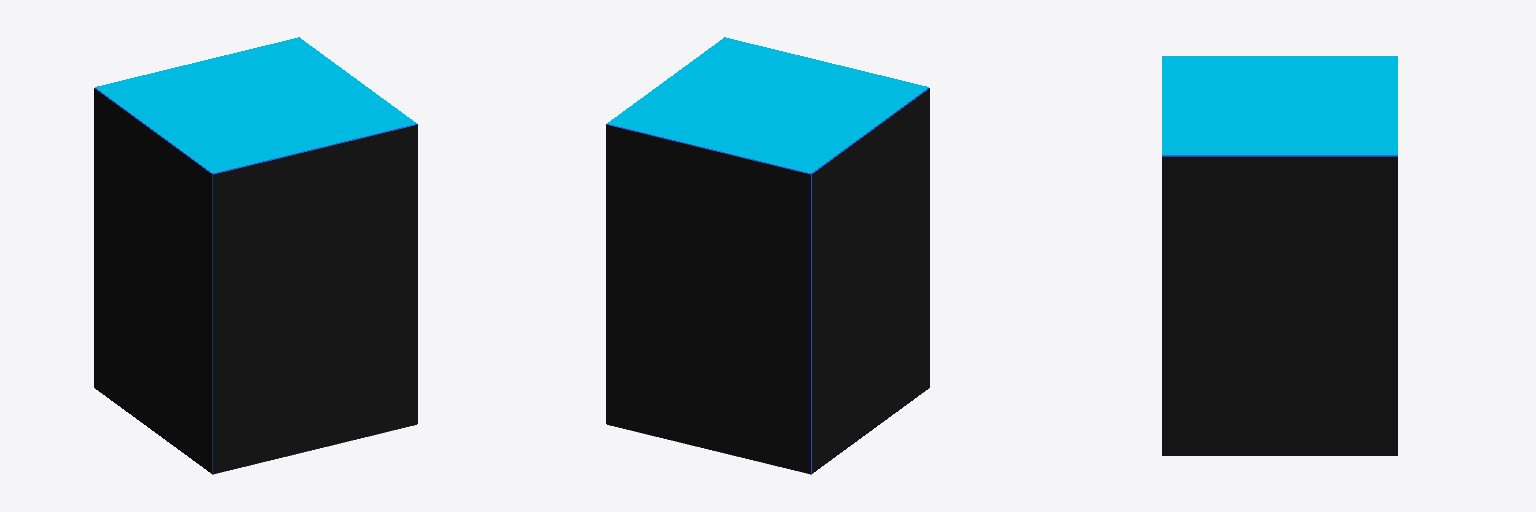
The picture shows the model from 3 angles: view 1: azimuth 30°, elevation 25°; view 2: azimuth 150°, elevation 25°; view 3: azimuth 270°, elevation 25°; orthographic projection.
Parts seen in each view (by area): view 1: Energyshield5, Energyshield3, Energyshield7, Energyshield1; view 2: Energyshield6, Energyshield3, Energyshield7, Energyshield1; view 3: Energyshield4, Energyshield7.
Boxes of the visible parts, box(x1,y1,x2,y2) form: Energyshield5: box(213, 125, 417, 473); Energyshield3: box(94, 89, 211, 473); Energyshield7: box(95, 37, 416, 172); Energyshield1: box(95, 88, 416, 473); Energyshield6: box(606, 125, 810, 473); Energyshield3: box(812, 89, 929, 473); Energyshield7: box(607, 37, 928, 172); Energyshield1: box(607, 88, 928, 473); Energyshield4: box(1162, 157, 1397, 455); Energyshield7: box(1162, 56, 1397, 154).
Bounding box in the file's own units: 5.04 × 7.04 × 5.04.
5 materials, 1 textured.